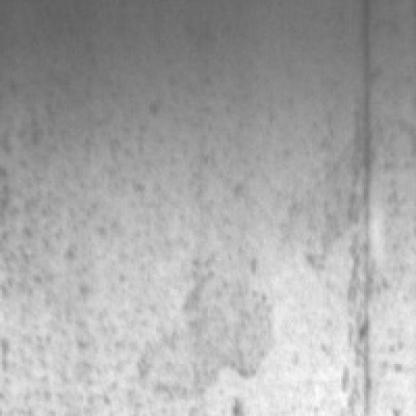inclusion: (339, 6, 397, 393)
pitted_surface: (2, 19, 310, 407)
